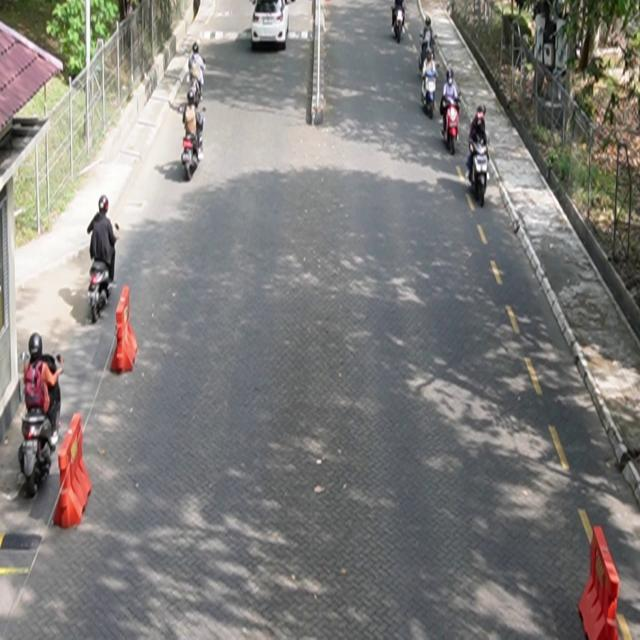car: (252, 1, 292, 51)
